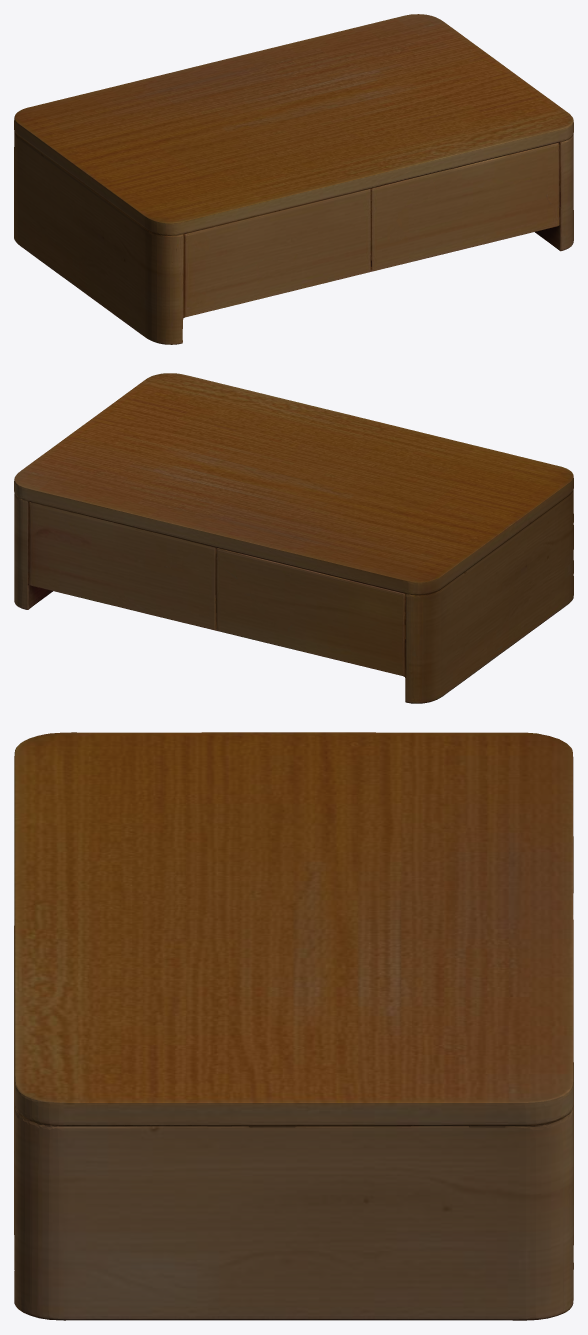
Rendered from form-storage-coffee-table_f0def105-ad36-4db2-873c-39c32cf8b332.glb.
3 views of the same model, one above another, from view 1: azimuth 30°, elevation 25°; view 2: azimuth 150°, elevation 25°; view 3: azimuth 270°, elevation 25° (orthographic). The views are drawn at different scales.
Parts seen in each view (by area): view 1: world; view 2: world; view 3: world.
Boxes of the visible parts, bbox=[...] form: world: bbox=[14, 14, 573, 344]; world: bbox=[14, 373, 573, 703]; world: bbox=[14, 732, 573, 1320].
Size of the model in its own units: 1.19 by 0.3302 by 0.762.
1 material, 1 textured.
